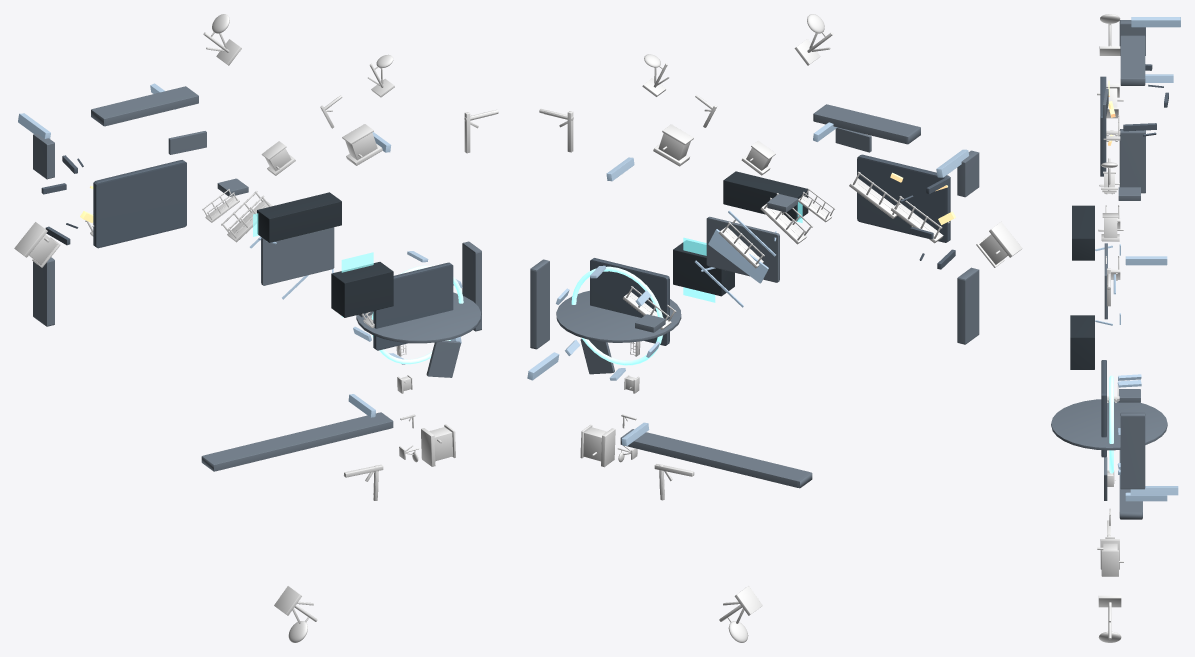
File: broken_halo_env.glb
3 views of the same model, side by side, from view 1: azimuth 30°, elevation 25°; view 2: azimuth 150°, elevation 25°; view 3: azimuth 270°, elevation 25° (orthographic). The views are drawn at different scales.
Parts seen in each view (by area): view 1: OuterDeck, InnerDeck, SouthWall, BridgeDeck, NorthTrench, InnerHaloDeck, SouthTrench, NorthWall, WestWallSouth, EastWall, InnerSpur, WestWallNorth (+1 smaller); view 2: OuterDeck, SouthWall, InnerHaloDeck, InnerDeck, NorthTrench, BridgeDeck, SouthTrench, NorthWall, EastWall, WestWallSouth, InnerHaloRing, BridgeMain (+2 smaller); view 3: InnerHaloDeck, EastWall, WestWallSouth, SouthTrench, NorthWall, NorthTrench, SouthWall, OuterDeck, SkyFinNW, InnerDeck, RelayHousing_A_TopLip.004, InnerHaloRing (+12 smaller).
Part boxes in pixels (<box>): OuterDeck: <box>93,160,186,248</box>; InnerDeck: <box>373,262,453,350</box>; SouthWall: <box>201,412,393,471</box>; BridgeDeck: <box>261,227,334,285</box>; NorthTrench: <box>257,192,341,242</box>; InnerHaloDeck: <box>356,292,481,343</box>; SouthTrench: <box>331,262,393,317</box>; NorthWall: <box>91,86,198,126</box>; WestWallSouth: <box>33,257,54,326</box>; EastWall: <box>462,241,481,331</box>; InnerSpur: <box>426,341,460,377</box>; WestWallNorth: <box>33,133,54,179</box>; OuterDeck: <box>857,154,950,242</box>; SouthWall: <box>620,429,812,488</box>; InnerHaloDeck: <box>556,290,681,342</box>; InnerDeck: <box>590,258,669,345</box>; NorthTrench: <box>723,171,808,220</box>; BridgeDeck: <box>706,216,779,282</box>; SouthTrench: <box>673,240,734,296</box>; NorthWall: <box>813,104,920,144</box>; EastWall: <box>530,259,549,349</box>; WestWallSouth: <box>957,267,979,344</box>; InnerHaloRing: <box>571,266,662,365</box>; BridgeMain: <box>708,229,768,283</box>; InnerHaloDeck: <box>1051,399,1167,450</box>; EastWall: <box>1120,412,1145,489</box>; WestWallSouth: <box>1119,129,1145,193</box>; SouthTrench: <box>1070,315,1094,369</box>; NorthWall: <box>1120,35,1145,85</box>; NorthTrench: <box>1072,205,1094,260</box>; SouthWall: <box>1119,450,1142,519</box>; OuterDeck: <box>1100,76,1106,176</box>; SkyFinNW: <box>1131,17,1180,27</box>; InnerDeck: <box>1101,360,1106,457</box>; RelayHousing_A_TopLip.004: <box>1101,550,1118,576</box>; InnerHaloRing: <box>1109,375,1113,473</box>.
Bounding box in the file's own units: 32.14 × 41.33 × 8.12.
